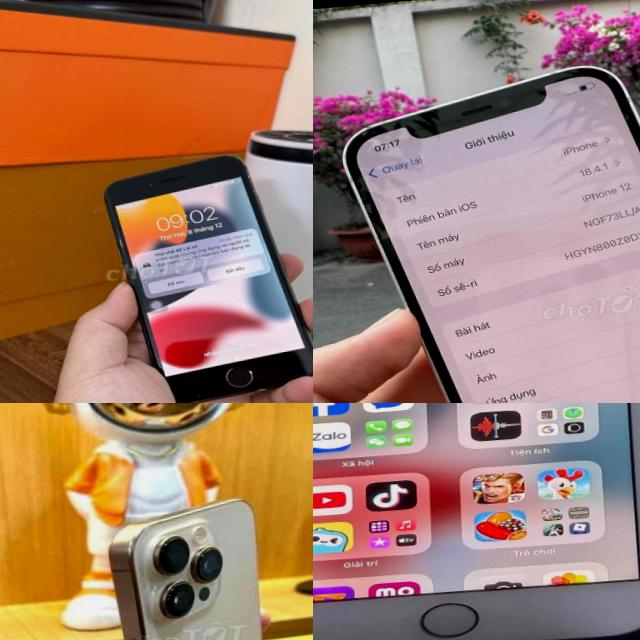scratch: (183, 387, 206, 400), (155, 165, 176, 178), (245, 366, 256, 377)
